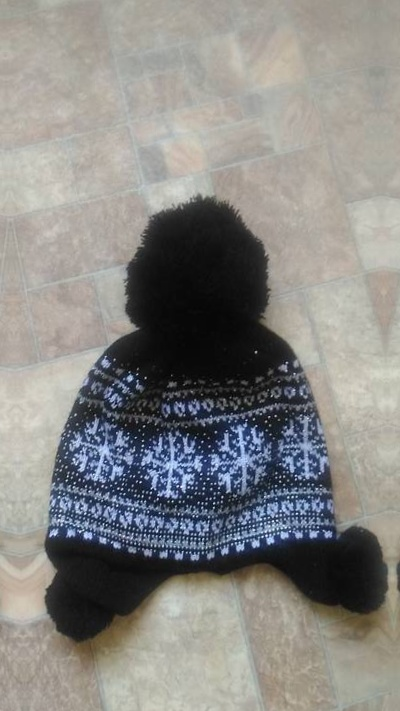Hat: (10, 172, 390, 678), (0, 183, 23, 689), (386, 161, 400, 667)
